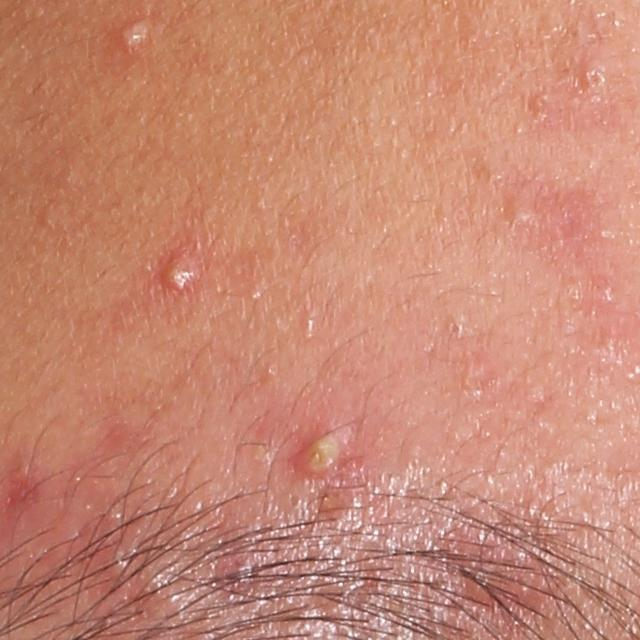comedo: (443, 317, 468, 342)
pustule: (149, 248, 206, 296), (290, 436, 347, 479), (120, 16, 160, 61)
